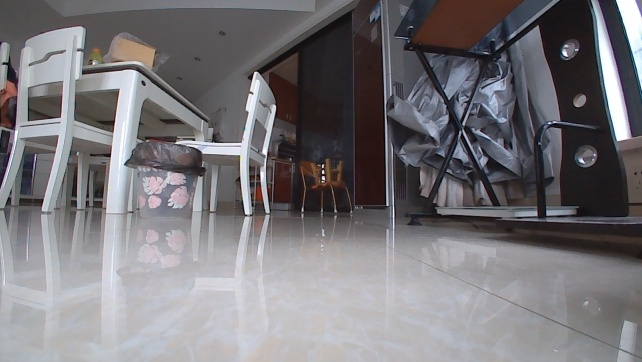dining_table: (0, 23, 282, 216)
weight_scale: (431, 200, 579, 221)
